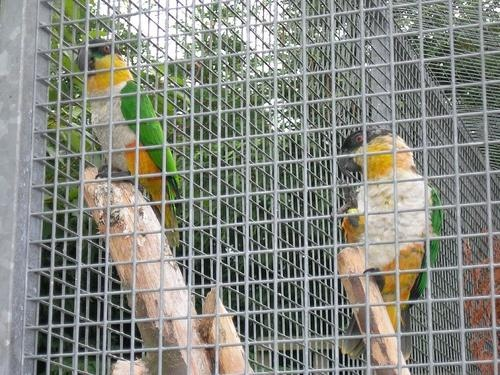bird: (334, 131, 447, 363), (72, 38, 186, 255)
